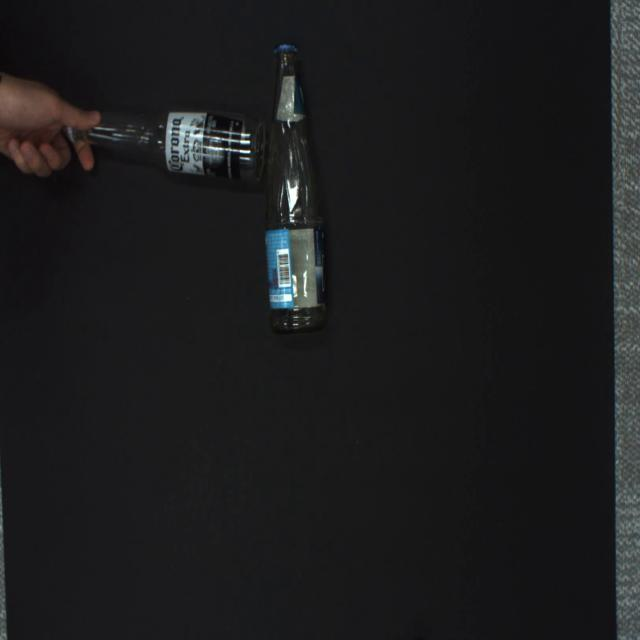beer-bottle: (265, 44, 328, 334), (67, 108, 266, 180)
